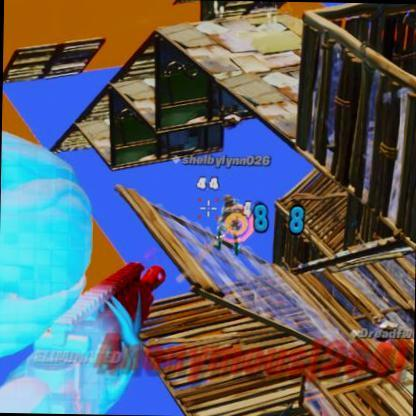person: (217, 188, 245, 256)
